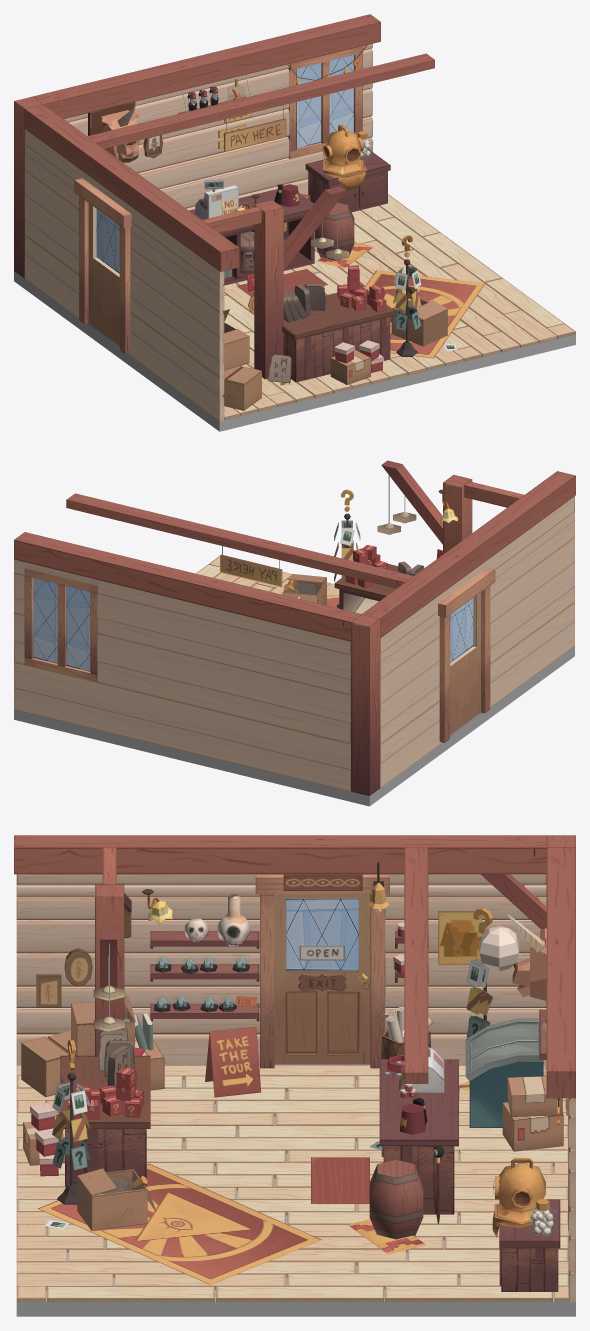
File: closing-time-at-the-mystery-shack.fbx
3 views of the same model, one above another, from view 1: azimuth 30°, elevation 25°; view 2: azimuth 150°, elevation 25°; view 3: azimuth 270°, elevation 25° (orthographic). The views are drawn at different scales.
Visible parts, largest first — view 1: floorPlank85_mat_Map3_0, beamCeiling1_mat_Map3_0, beamCeiling2_mat_Map3_0, floor_lambert1_0, beamCeiling3_mat_Map3_0, woodenShowcas1_mat_Map4_0, beamWall2_mat_Map3_0, carpetBill2_mat_Map1_0, logThick10_mat_Map3_0, logThin13_mat_Map3_0, logThick9_mat_Map3_0, door1_mat_Map3_0 (+45 smaller); view 2: beamCeiling1_mat_Map3_0, logThick10_mat_Map3_0, beamCeiling2_mat_Map3_0, logThick13_mat_Map3_0, logThick9_mat_Map3_0, logThick8_mat_Map3_0, floor_lambert1_0, beamCeiling3_mat_Map3_0, logThin13_mat_Map3_0, beamWall1_mat_Map3_0, logThin12_mat_Map3_0, logThin11_mat_Map3_0 (+35 smaller); view 3: floorPlank85_mat_Map3_0, beamCeiling2_mat_Map3_0, carpetBill2_mat_Map1_0, door1_mat_Map3_0, floor_lambert1_0, beamCeiling1_mat_Map3_0, counter12_mat_Map4_0, woodenShowcas1_mat_Map4_0, beamCeiling3_mat_Map3_0, IceCreams1_mat_Map4_0, logThick4_mat_Map3_0, doorGlass1_mat_Map2_0 (+54 smaller).
Boxes of the visible parts, <box> form: floorPlank85_mat_Map3_0: <box>223,194,575,419</box>; beamCeiling1_mat_Map3_0: <box>33,14,380,118</box>; beamCeiling2_mat_Map3_0: <box>24,104,239,271</box>; floor_lambert1_0: <box>14,271,575,431</box>; beamCeiling3_mat_Map3_0: <box>87,53,434,148</box>; woodenShowcas1_mat_Map4_0: <box>282,288,395,382</box>; beamWall2_mat_Map3_0: <box>254,200,283,379</box>; carpetBill2_mat_Map1_0: <box>364,270,484,358</box>; logThick10_mat_Map3_0: <box>160,137,372,208</box>; logThin13_mat_Map3_0: <box>138,137,289,189</box>; logThick9_mat_Map3_0: <box>123,109,289,173</box>; door1_mat_Map3_0: <box>88,203,119,345</box>; beamCeiling1_mat_Map3_0: <box>14,532,361,641</box>; logThick10_mat_Map3_0: <box>14,662,350,769</box>; beamCeiling2_mat_Map3_0: <box>362,471,575,637</box>; logThick13_mat_Map3_0: <box>14,688,350,791</box>; logThick9_mat_Map3_0: <box>97,633,350,723</box>; logThick8_mat_Map3_0: <box>97,593,350,679</box>; floor_lambert1_0: <box>14,646,574,806</box>; beamCeiling3_mat_Map3_0: <box>66,493,413,588</box>; logThin13_mat_Map3_0: <box>97,661,350,744</box>; beamWall1_mat_Map3_0: <box>351,614,380,795</box>; logThin12_mat_Map3_0: <box>97,618,350,694</box>; logThin11_mat_Map3_0: <box>97,580,350,654</box>; floorPlank85_mat_Map3_0: <box>16,1065,568,1302</box>; beamCeiling2_mat_Map3_0: <box>14,835,546,874</box>; carpetBill2_mat_Map1_0: <box>38,1163,321,1284</box>; door1_mat_Map3_0: <box>274,894,370,1064</box>; floor_lambert1_0: <box>16,1069,575,1316</box>; beamCeiling1_mat_Map3_0: <box>546,847,575,1098</box>; counter12_mat_Map4_0: <box>379,1059,458,1214</box>; woodenShowcas1_mat_Map4_0: <box>60,1055,150,1186</box>; beamCeiling3_mat_Map3_0: <box>404,847,428,1083</box>; IceCreams1_mat_Map4_0: <box>465,1018,543,1127</box>; logThick4_mat_Map3_0: <box>16,920,259,953</box>; doorGlass1_mat_Map2_0: <box>286,899,358,970</box>.
Size of the model in its own units: 3904 by 1836 by 3819.
